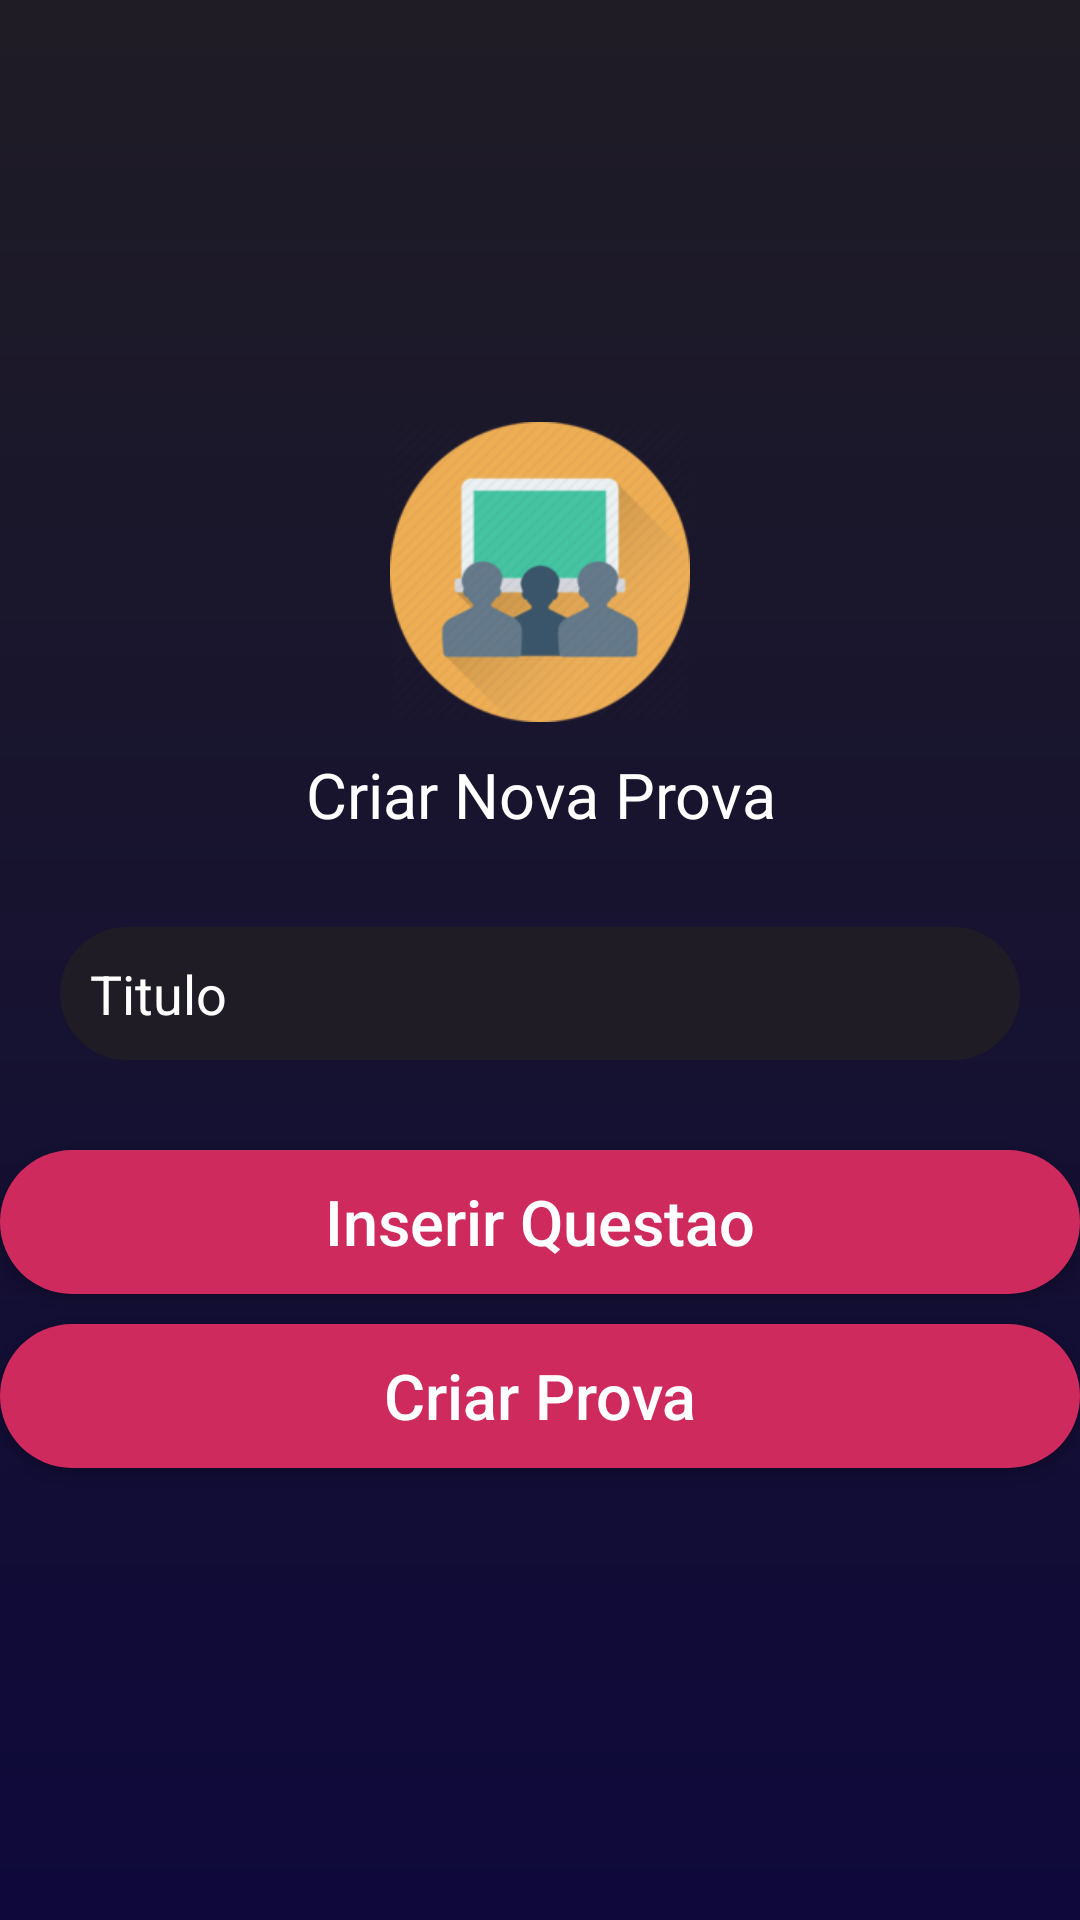

Locate icon controls on the screen. Image size 1080px×1920px, boxes as (x1, y1, x2, y2).
classe: (390, 422, 690, 722)
